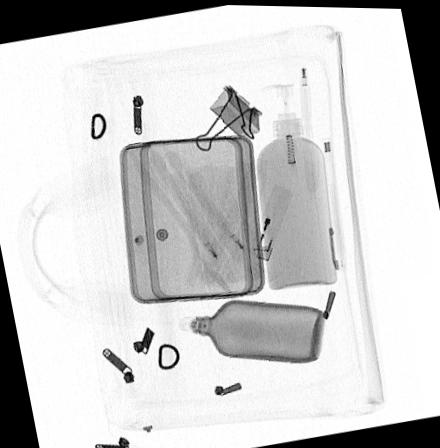Lighter: (247, 180, 294, 258)
